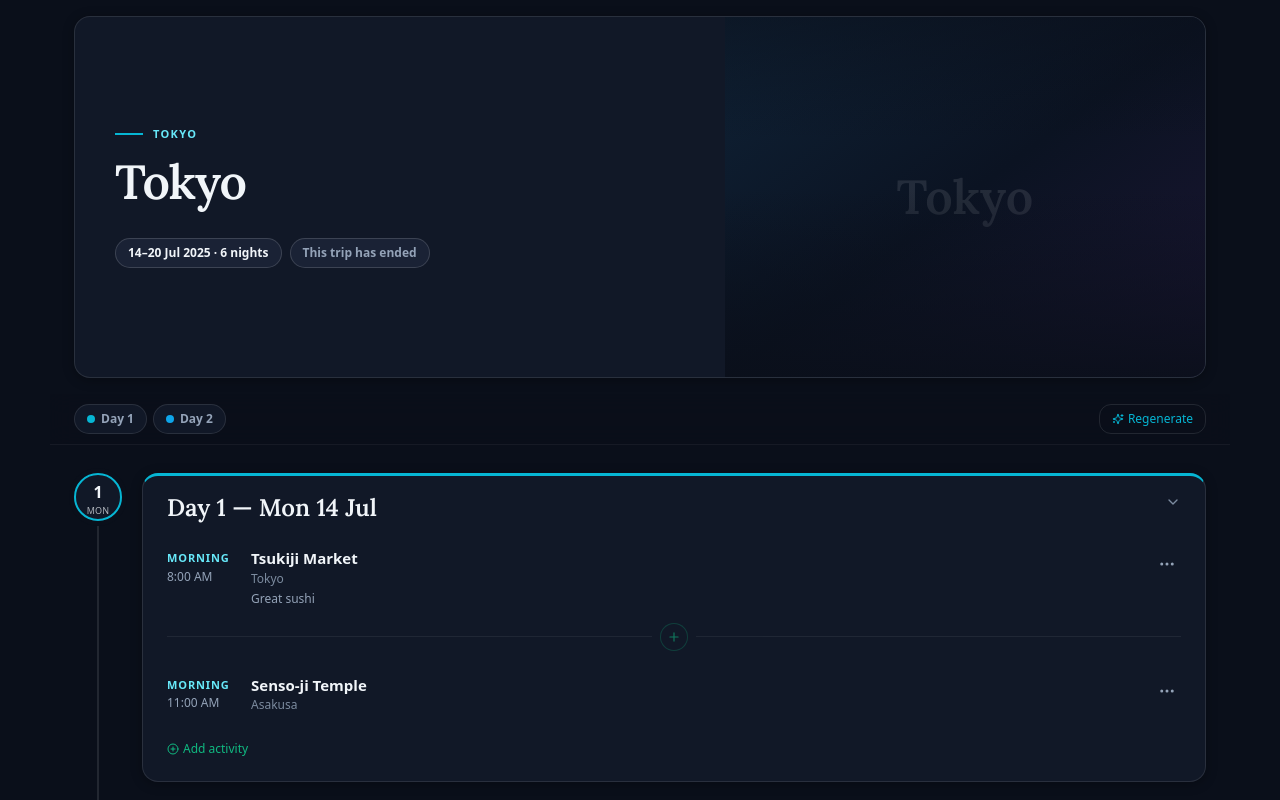
Test: ItineraryView › collapses a day when its expand/collapse button is clicked
// Click the first one (Day 1)
Click the button "Day 1 — Mon 14 Jul".
click(272, 508)  # box top-left (143, 476), bottom-right (1205, 536)
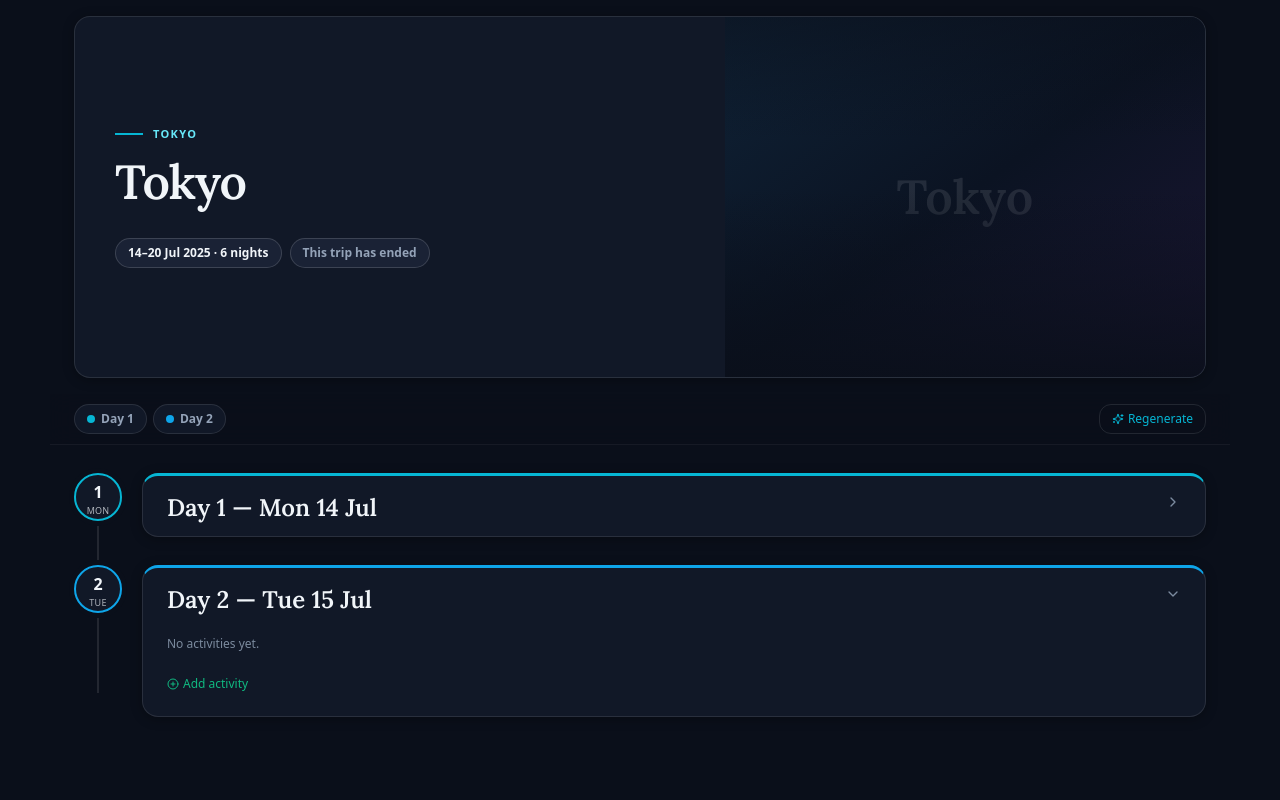
Expected: the button "Tsukiji Market" is gone
